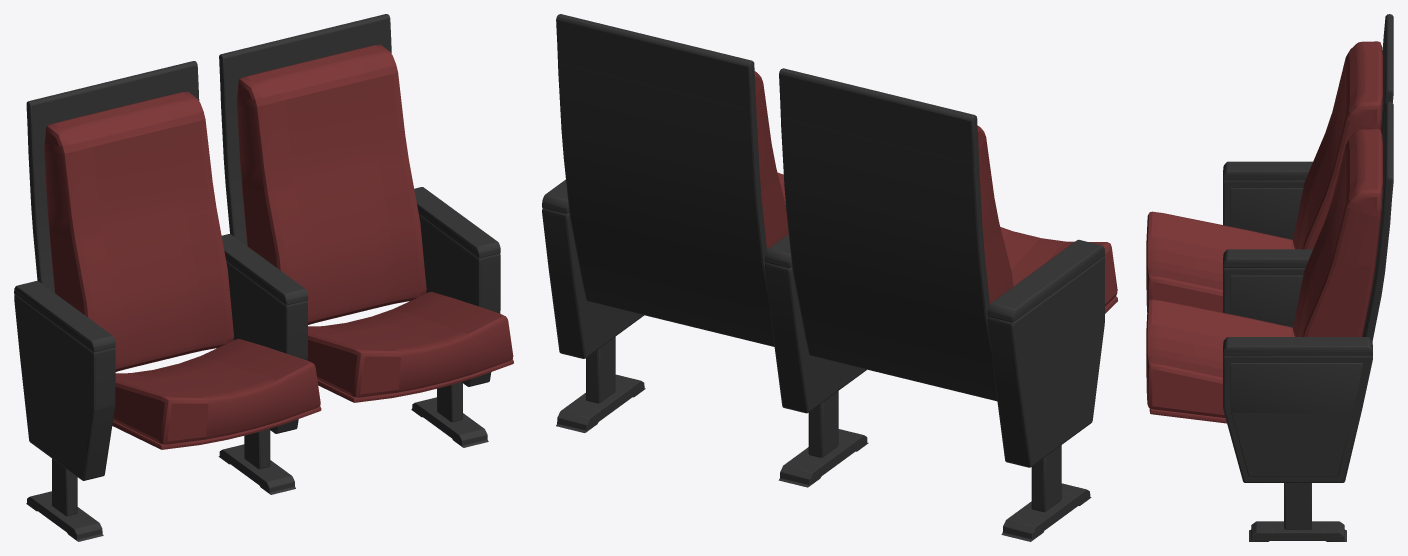
Rendered from cinemamovie_theater_seat.glb.
The picture shows the model from 3 angles, left to right: view 1: azimuth 30°, elevation 25°; view 2: azimuth 150°, elevation 25°; view 3: azimuth 270°, elevation 25°; orthographic projection. The views are drawn at different scales.
Bounding box in the file's own units: 0.9409 × 0.829 × 0.5266.
